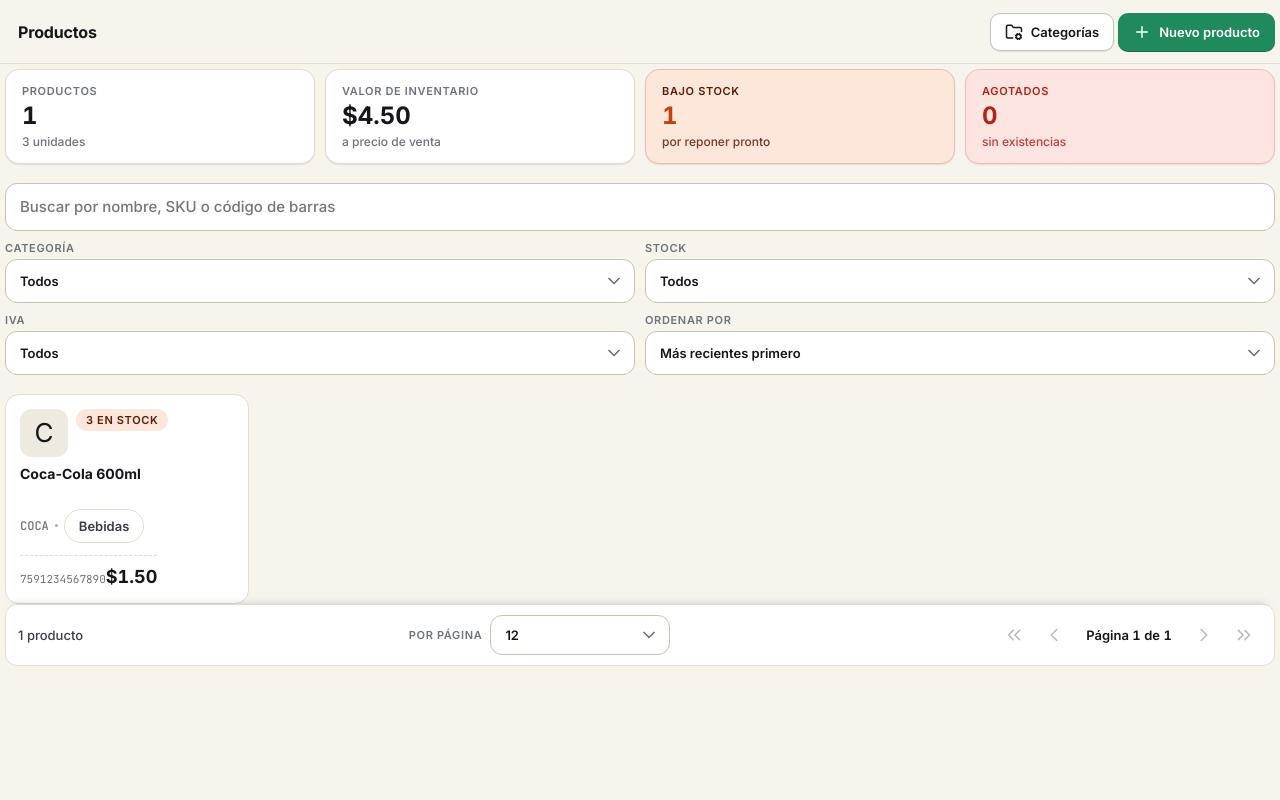
Test case: Categorías — offline write-blocking (FEATURES §18) › online: crear (with a valid name) / renombrar / eliminar are enabled, no offline notice
Click the button "Categorías" at (1052, 32), box 990,12 -> 1114,50
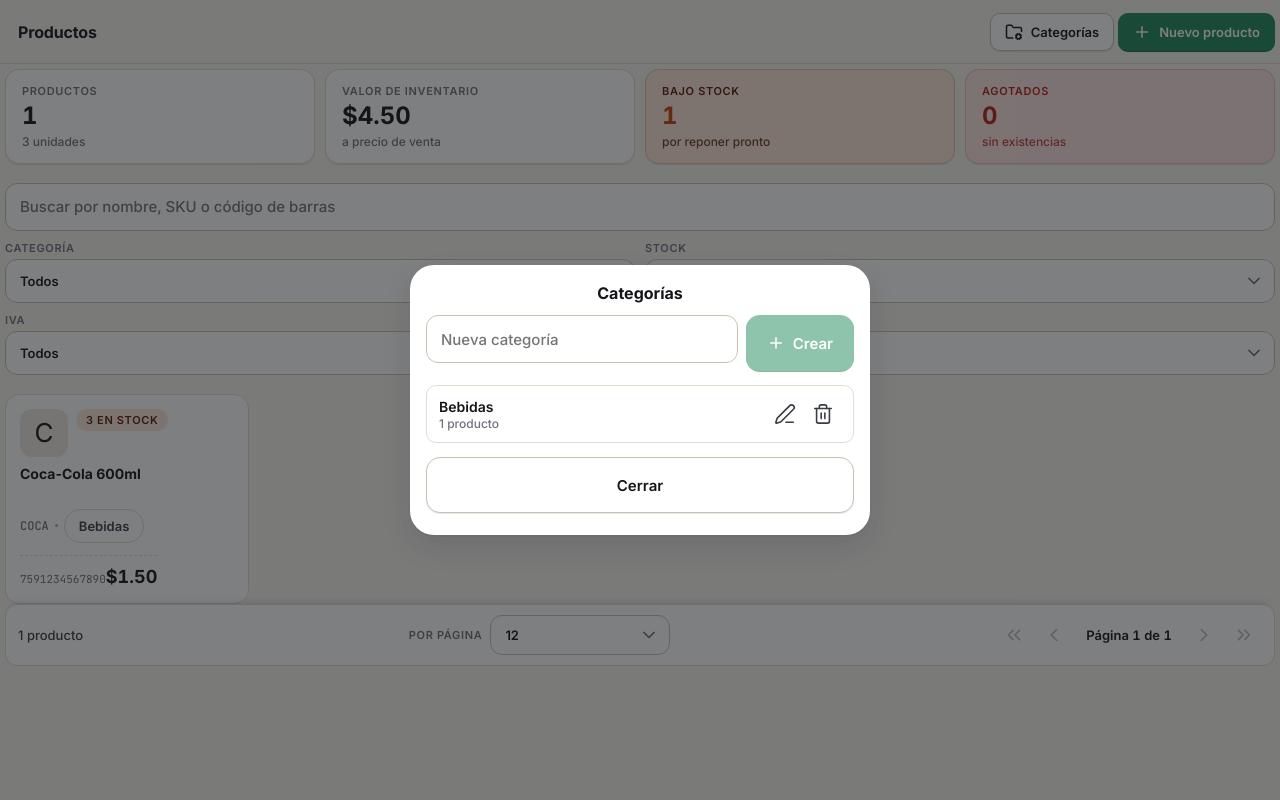
Type "Snacks" into the field with placeholder "Nueva categoría" at (582, 339), box 426,315 -> 738,363
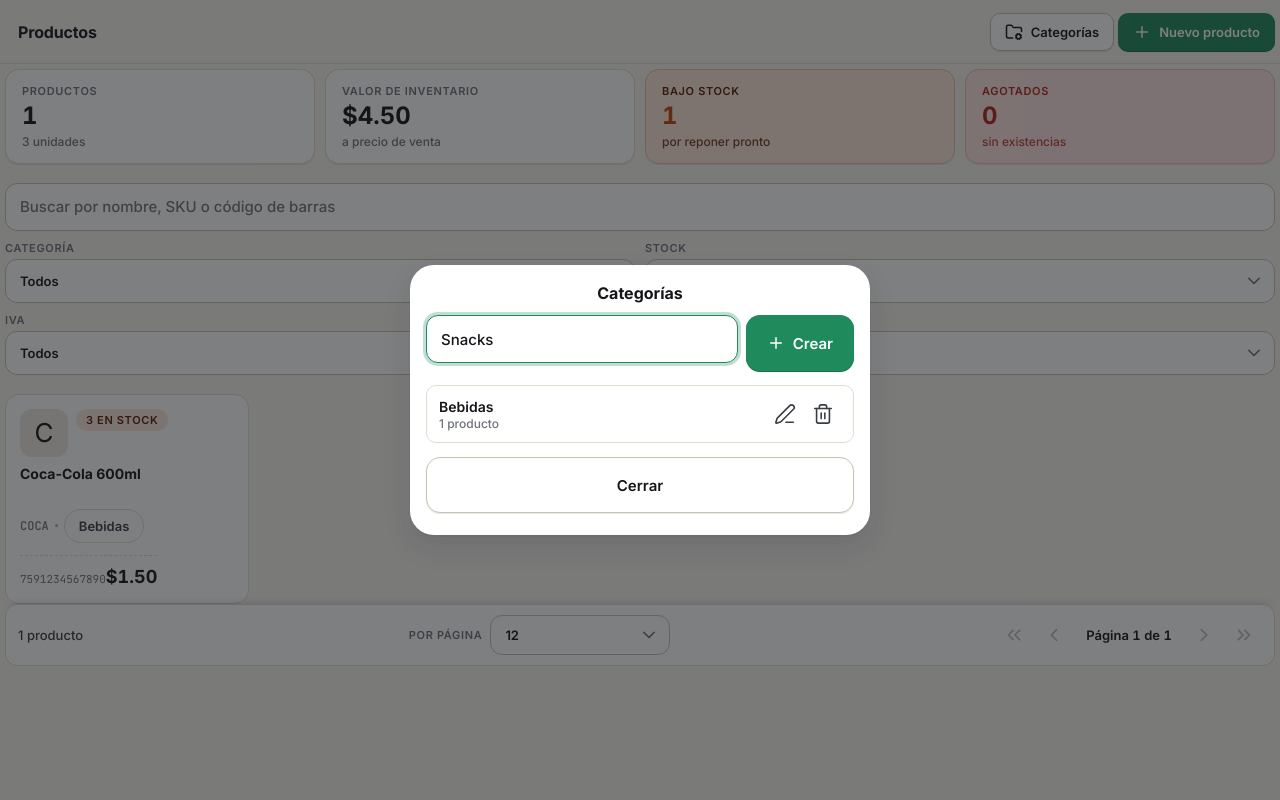
Check: the button named "Renombrar" is enabled, box 767,396 -> 803,432
Check: the button named "Eliminar" is enabled, box 805,396 -> 841,432
Check: the button "Crear" is enabled, box 746,315 -> 854,371
